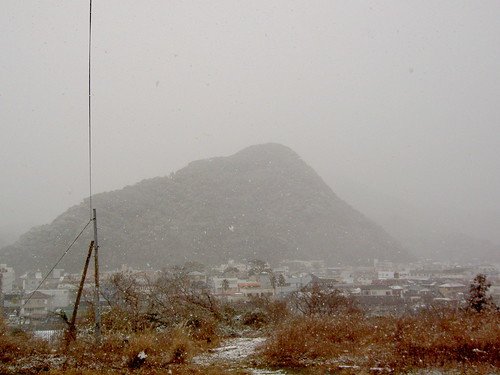grass: (1, 299, 500, 375)
mountain: (58, 118, 399, 240)
sky: (1, 1, 500, 209)
